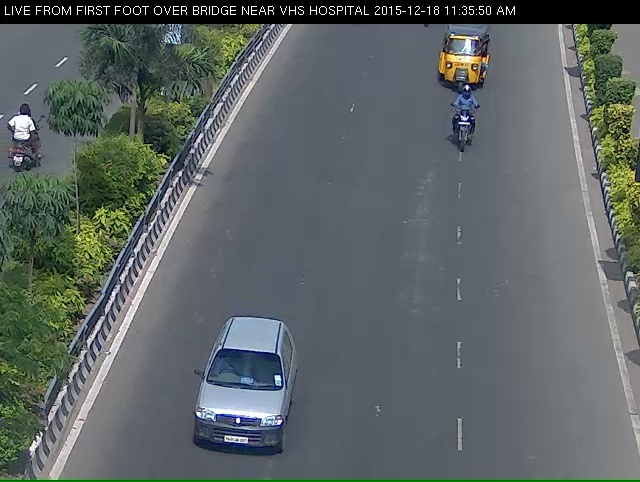Auto: (428, 29, 507, 107)
Car: (165, 338, 294, 478)
Person: (447, 105, 481, 167)
